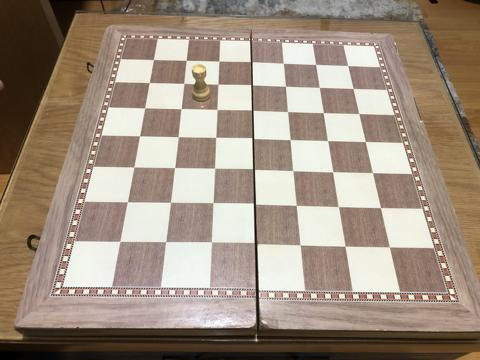xcorner: (250, 239, 263, 252), (343, 60, 355, 73), (246, 57, 259, 69), (148, 53, 160, 66), (348, 83, 361, 95), (144, 76, 156, 89), (286, 134, 298, 147), (168, 162, 180, 175), (384, 242, 397, 254), (295, 240, 308, 252), (159, 238, 172, 250), (311, 59, 323, 71), (279, 58, 291, 70), (214, 56, 226, 68), (181, 55, 193, 67), (315, 82, 327, 94), (281, 81, 293, 93), (247, 80, 259, 92), (213, 79, 225, 91), (178, 78, 190, 90), (354, 109, 366, 121), (319, 108, 331, 120), (283, 106, 295, 118), (248, 105, 260, 117), (212, 104, 224, 116), (175, 103, 187, 115), (139, 102, 151, 114), (361, 137, 373, 149), (323, 136, 335, 148), (248, 133, 260, 145), (210, 132, 222, 144), (172, 131, 184, 143), (134, 130, 146, 142), (368, 168, 380, 180), (328, 167, 340, 179), (289, 166, 301, 178), (249, 165, 261, 177), (209, 164, 221, 176), (128, 161, 140, 173), (376, 203, 388, 215), (334, 202, 346, 214), (292, 201, 304, 213), (250, 200, 262, 212), (207, 199, 219, 211), (164, 198, 176, 210), (121, 197, 133, 209), (340, 241, 352, 253), (205, 239, 217, 251), (113, 237, 125, 249)
